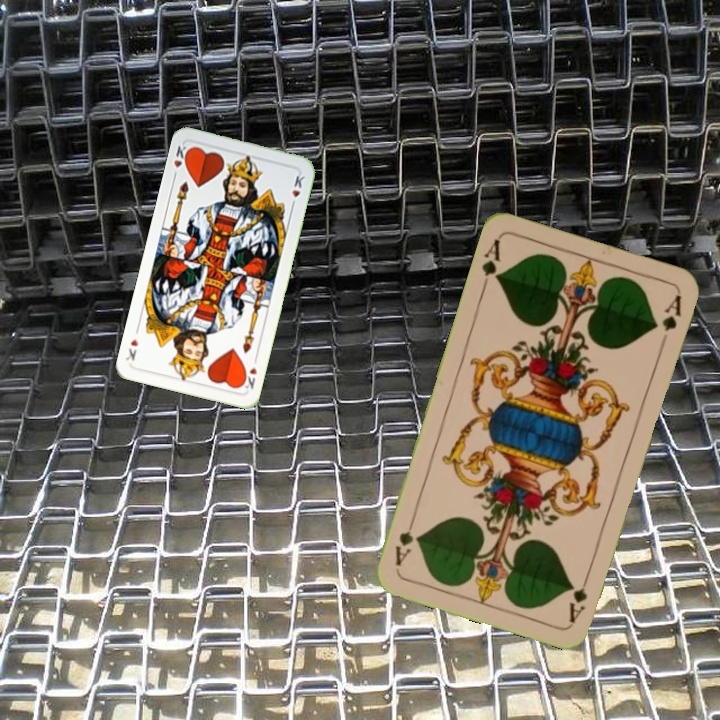GA: (565, 568, 593, 625), (477, 235, 503, 293)
HK: (169, 142, 193, 181), (238, 353, 260, 391)
